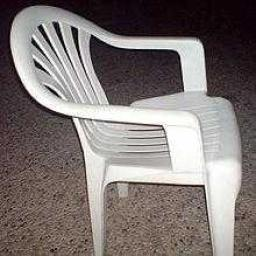Chair: (10, 4, 241, 256)
